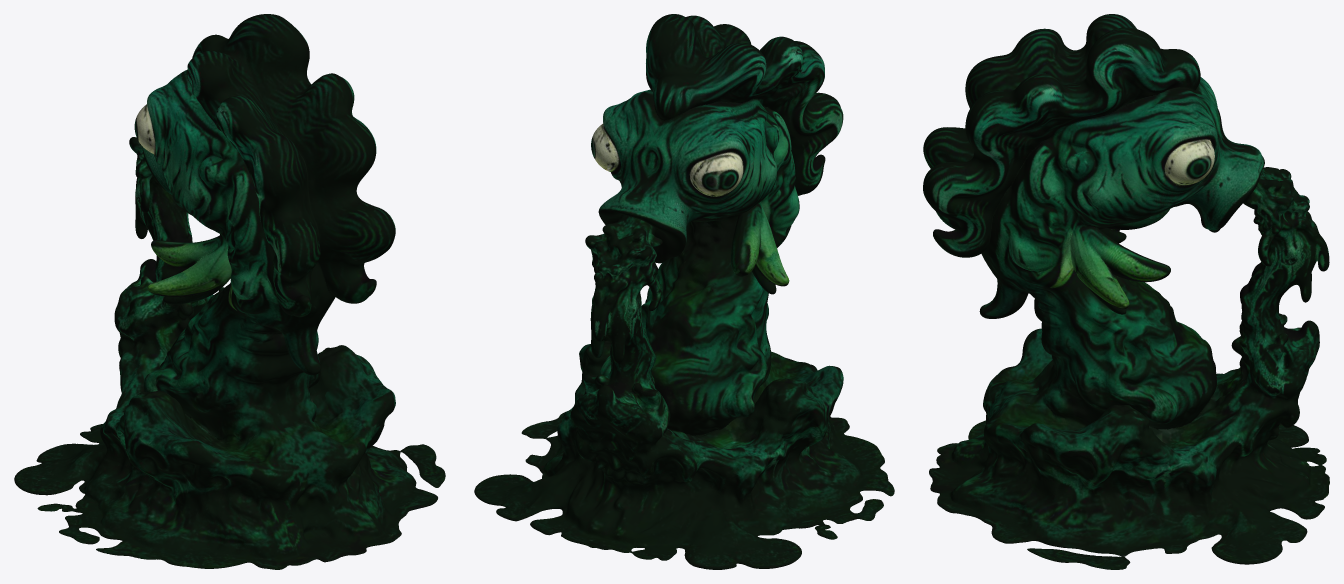
File: Siren.glb
3 renders of one model, left to right at view 1: azimuth 30°, elevation 25°; view 2: azimuth 150°, elevation 25°; view 3: azimuth 270°, elevation 25°, orthographic. The views are drawn at different scales.
Parts seen in each view (by area): view 1: tripo_node_c82094fa-8caa-443e-99e0-212486c3e320; view 2: tripo_node_c82094fa-8caa-443e-99e0-212486c3e320; view 3: tripo_node_c82094fa-8caa-443e-99e0-212486c3e320.
Part boxes in pixels (x1,y1,x2,y2): tripo_node_c82094fa-8caa-443e-99e0-212486c3e320: [14, 14, 445, 569]; tripo_node_c82094fa-8caa-443e-99e0-212486c3e320: [474, 14, 894, 569]; tripo_node_c82094fa-8caa-443e-99e0-212486c3e320: [923, 14, 1329, 569].
Size of the model in its own units: 0.8122 by 1 by 0.7893.
Materials: 1 (1 with a texture image).
